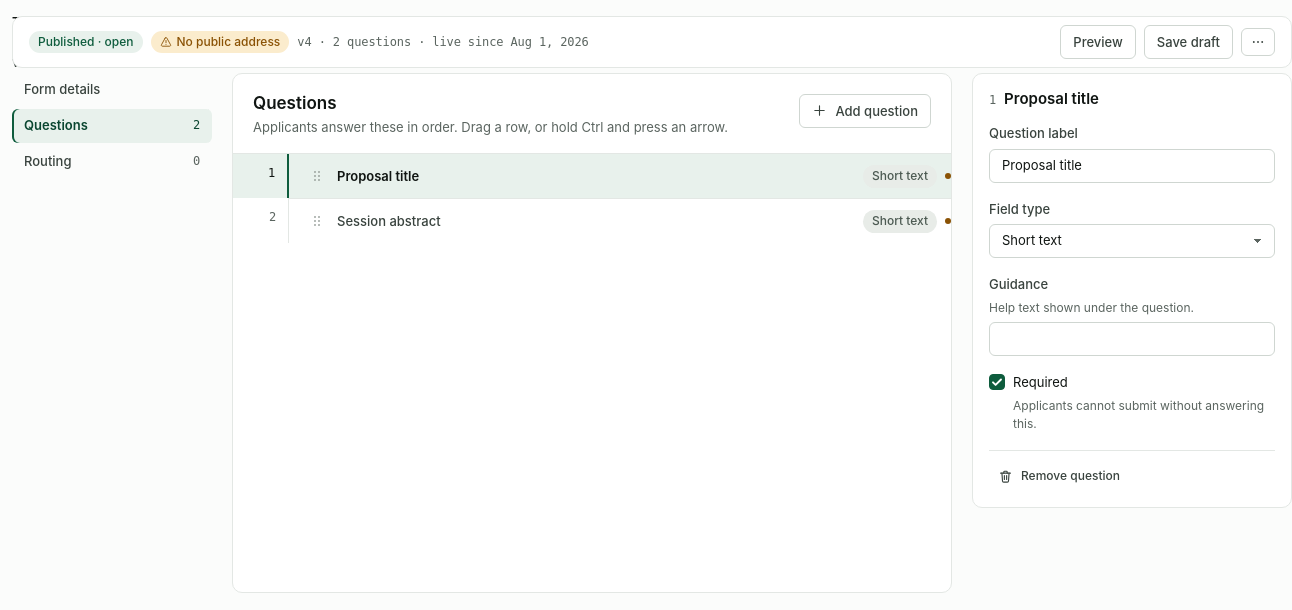
Test case: the composer's own shape › holds one question's editor at a time, not every question's at once
Check: the button "Proposal title" is shown, box [337,166,419,186]
Check: the number of fields labelled "Question label" is 1, box [989,148,1275,182]
Click the button "Session abstract" at (389, 221), box [337,211,441,231]
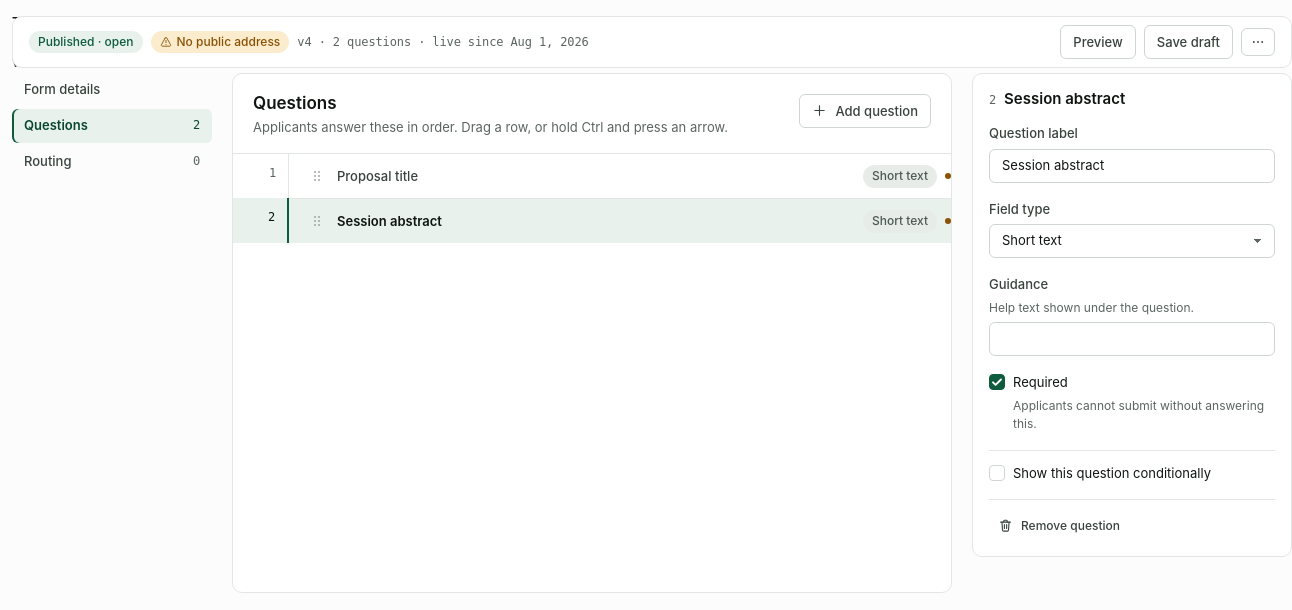
Check: the number of fields labelled "Question label" is 1, box [989,148,1275,182]
Check: the field labelled "Question label" holds "Session abstract", box [989,148,1275,182]
